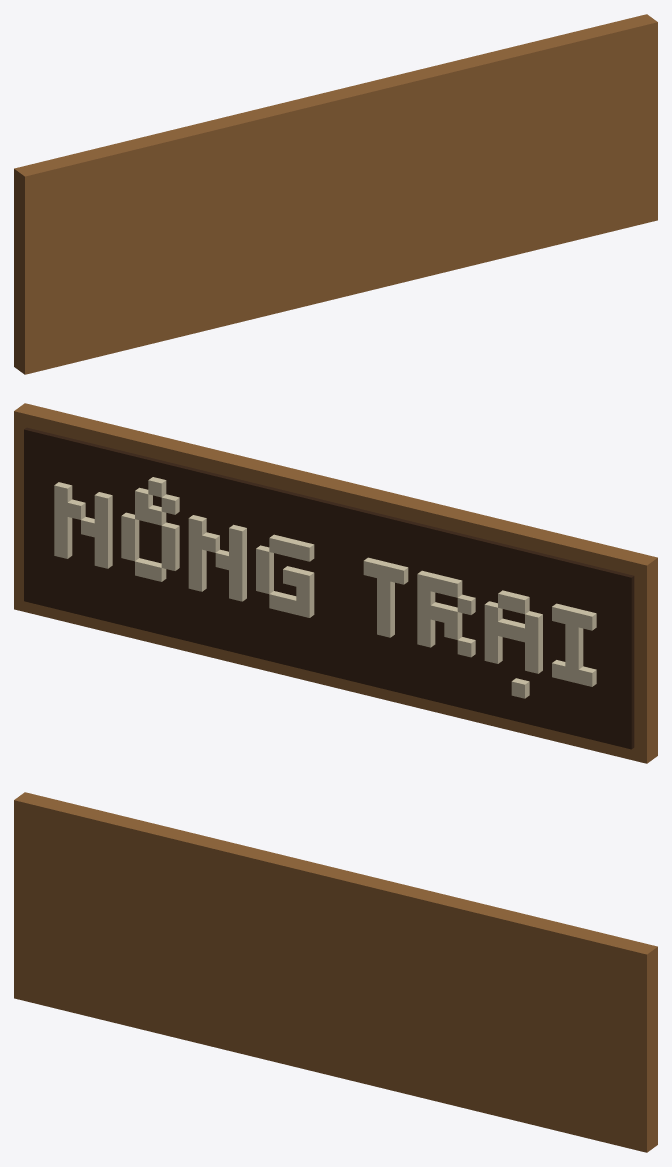
File: th-sign-nong-trai.glb
The picture shows the model from 3 angles, top to bottom: view 1: azimuth 30°, elevation 25°; view 2: azimuth 150°, elevation 25°; view 3: azimuth 330°, elevation 25°; orthographic projection.
Parts seen in each view (by area): view 1: box-prop; view 2: box-prop; view 3: box-prop.
Boxes of the visible parts, x1,y1,x2,y2 form: box-prop: (14, 14, 657, 374); box-prop: (14, 403, 657, 763); box-prop: (14, 792, 657, 1152).
Size of the model in its own units: 4 by 1.2 by 0.2.
